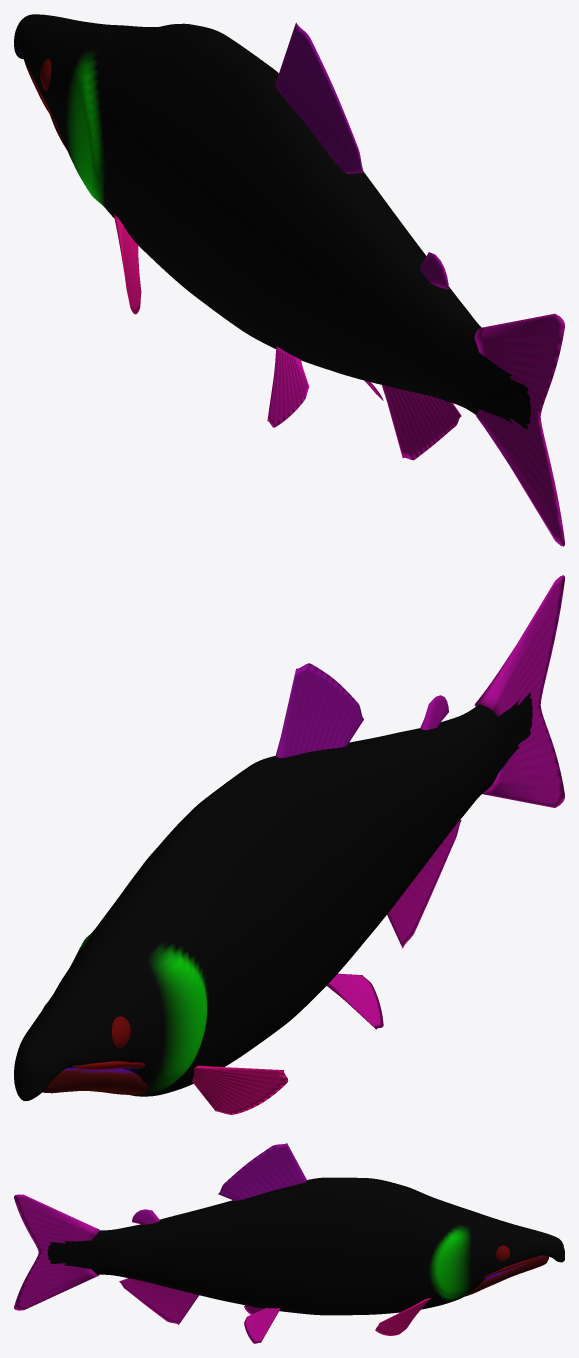
The model's file is sockeye_spawner.glb.
3 renders of one model, top to bottom at view 1: azimuth 30°, elevation 25°; view 2: azimuth 150°, elevation 25°; view 3: azimuth 270°, elevation 25°, orthographic. The views are drawn at different scales.
Parts seen in each view (by area): view 1: sockeye_spawner; view 2: sockeye_spawner; view 3: sockeye_spawner.
Boxes of the visible parts, x1,y1,x2,y2 form: sockeye_spawner: (14,14,564,546); sockeye_spawner: (14,575,564,1114); sockeye_spawner: (14,1143,564,1343).
Size of the model in its own units: 0.1005 by 0.2236 by 0.5967.
